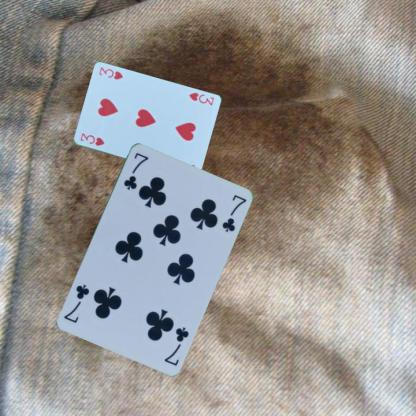3h: (186, 90, 215, 107), (78, 130, 105, 147)
7c: (161, 323, 190, 367), (121, 149, 150, 191)
